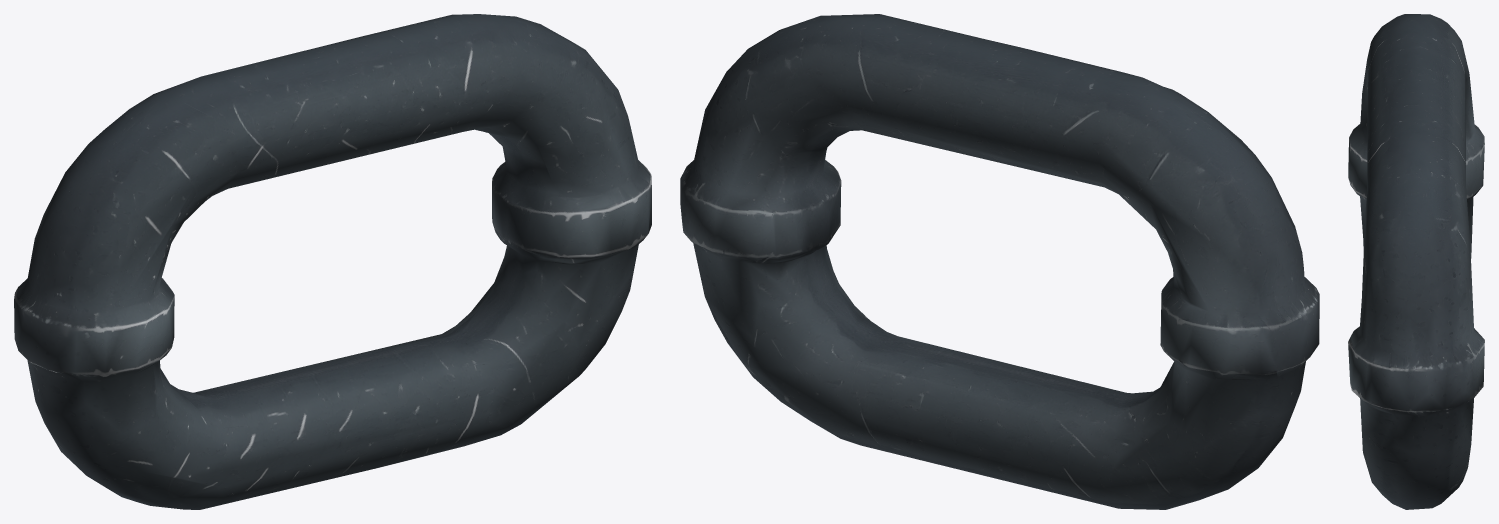
Rendered from Chain.glb.
The picture shows the model from 3 angles, left to right: view 1: azimuth 30°, elevation 25°; view 2: azimuth 150°, elevation 25°; view 3: azimuth 270°, elevation 25°; orthographic projection. The views are drawn at different scales.
Parts seen in each view (by area): view 1: Mesh1.0; view 2: Mesh1.0; view 3: Mesh1.0.
Boxes of the visible parts, x1=… form: Mesh1.0: x1=14, y1=14, x2=651, y2=509; Mesh1.0: x1=680, y1=14, x2=1319, y2=509; Mesh1.0: x1=1348, y1=14, x2=1484, y2=509.
Size of the model in its own units: 1.93 by 1.26 by 0.4289.
1 material, 1 textured.
